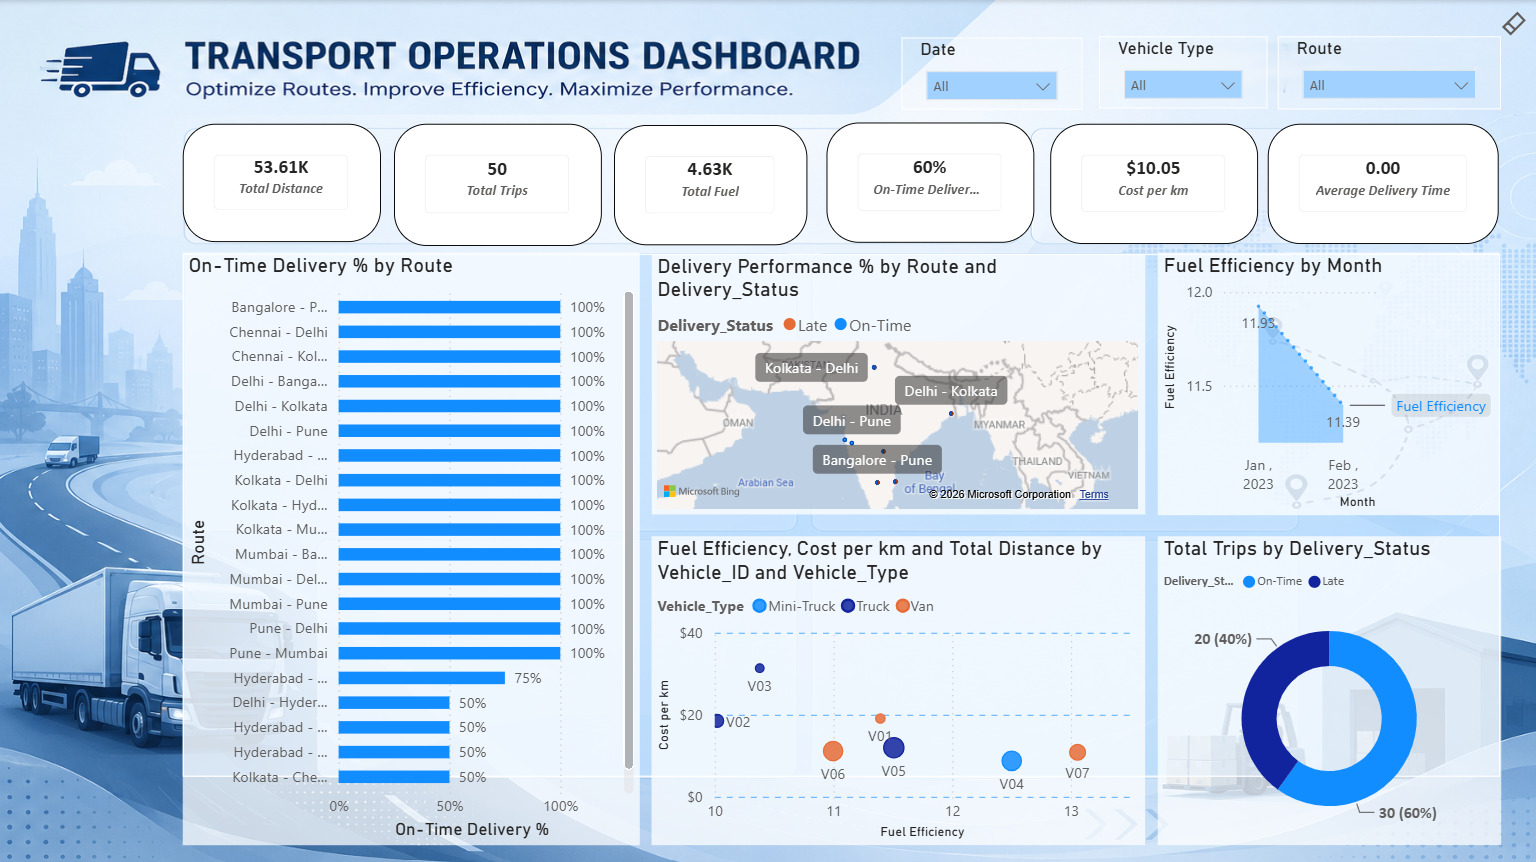

Layout of this report page (visuals, bound fields, positions):
{"tool":"powerbi","page":{"name":"Transport operation dashboard","canvas":[1280,720],"ordinal":0},"visuals":[{"type":"shape","box":[152.3,210.5,1095.4,434.9],"z":0},{"type":"slicer","title":"Date","fields":{"Values":["Trip_Data.Delivery_Date"]},"box":[750.5,31.6,150.5,60],"z":1000},{"type":"slicer","title":"Vehicle Type","fields":{"Values":["Vehicle_Master.Vehicle_Type"]},"box":[914.7,30.5,140,60],"z":2000},{"type":"slicer","title":"Route","fields":{"Values":["Trip_Data.Route"]},"box":[1063.2,30.5,185.3,61.1],"z":3000},{"type":"cardVisual","fields":{"Data":["Measure Table.On-Time Delivery %"]},"box":[700,103.2,177.9,100],"z":4000},{"type":"clusteredBarChart","fields":{"Y":["Measure Table.On-Time Delivery %"],"Category":["Trip_Data.Route"]},"box":[152.3,209.9,380.1,492.6],"z":5000},{"type":"cardVisual","fields":{"Data":["Measure Table.Cost per km"]},"box":[1068.4,102.1,174.7,100],"z":6000},{"type":"cardVisual","fields":{"Data":["Measure Table.Total Distance"]},"box":[152.3,102.3,180.2,100],"z":7000},{"type":"cardVisual","fields":{"Data":["Measure Table.Total Trips"]},"box":[342.1,103.2,170.5,100],"z":8000},{"type":"map","fields":{"Category":["Trip_Data.Route"],"Series":["Trip_Data.Delivery_Status"]},"box":[542,211.3,410.3,216.8],"z":9000},{"type":"cardVisual","fields":{"Data":["Measure Table.Total Fuel"]},"box":[520,103.2,168.4,100],"z":10000},{"type":"lineChart","fields":{"Y":["Measure Table.Fuel Efficiency"],"Category":["Trip_Data.Month"]},"box":[963.3,209.9,284,218.2],"z":11000},{"type":"cardVisual","fields":{"Data":["Measure Table.Average Delivery Time"]},"box":[885.3,102.1,177.9,100],"z":12000},{"type":"actionButton","box":[1240,0,40,40],"z":13000},{"type":"donutChart","fields":{"Category":["Trip_Data.Delivery_Status"],"Y":["Measure Table.Total Trips"]},"box":[963.3,446,285.4,256.6],"z":14000},{"type":"scatterChart","fields":{"X":["Measure Table.Fuel Efficiency"],"Y":["Measure Table.Cost per km"],"Size":["Measure Table.Total Distance"],"Series":["Vehicle_Master.Vehicle_Type"],"Category":["Trip_Data.Vehicle_ID"]},"box":[542,446,410.3,256.6],"z":15000}]}

Visuals, with their boxes in screenshot pixels (x1, y1, x2, y2), scaled from the page's 1280x720 canvas onto the 1536x862 screenshot:
shape: region(183, 252, 1497, 773)
"Date" slicer: region(901, 38, 1081, 110)
"Vehicle Type" slicer: region(1098, 37, 1266, 108)
"Route" slicer: region(1276, 37, 1498, 110)
cardVisual - Measure Table.On-Time Delivery %: region(840, 124, 1053, 243)
clusteredBarChart - Measure Table.On-Time Delivery % x Trip_Data.Route: region(183, 251, 639, 841)
cardVisual - Measure Table.Cost per km: region(1282, 122, 1492, 242)
cardVisual - Measure Table.Total Distance: region(183, 122, 399, 242)
cardVisual - Measure Table.Total Trips: region(411, 124, 615, 243)
map - Trip_Data.Route x Trip_Data.Delivery_Status: region(650, 253, 1143, 513)
cardVisual - Measure Table.Total Fuel: region(624, 124, 826, 243)
lineChart - Measure Table.Fuel Efficiency x Trip_Data.Month: region(1156, 251, 1497, 513)
cardVisual - Measure Table.Average Delivery Time: region(1062, 122, 1276, 242)
actionButton: region(1488, 0, 1535, 48)
donutChart - Trip_Data.Delivery_Status x Measure Table.Total Trips: region(1156, 534, 1498, 841)
scatterChart - Measure Table.Fuel Efficiency x Measure Table.Cost per km: region(650, 534, 1143, 841)
